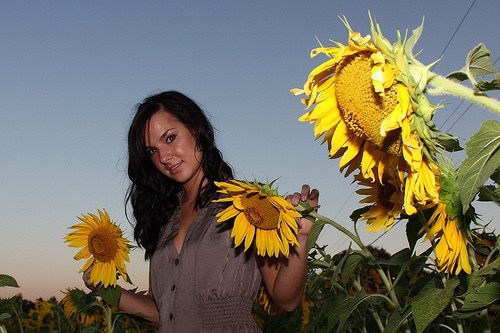flower: (287, 3, 447, 216), (209, 171, 307, 260), (61, 207, 134, 290), (352, 151, 411, 234)
